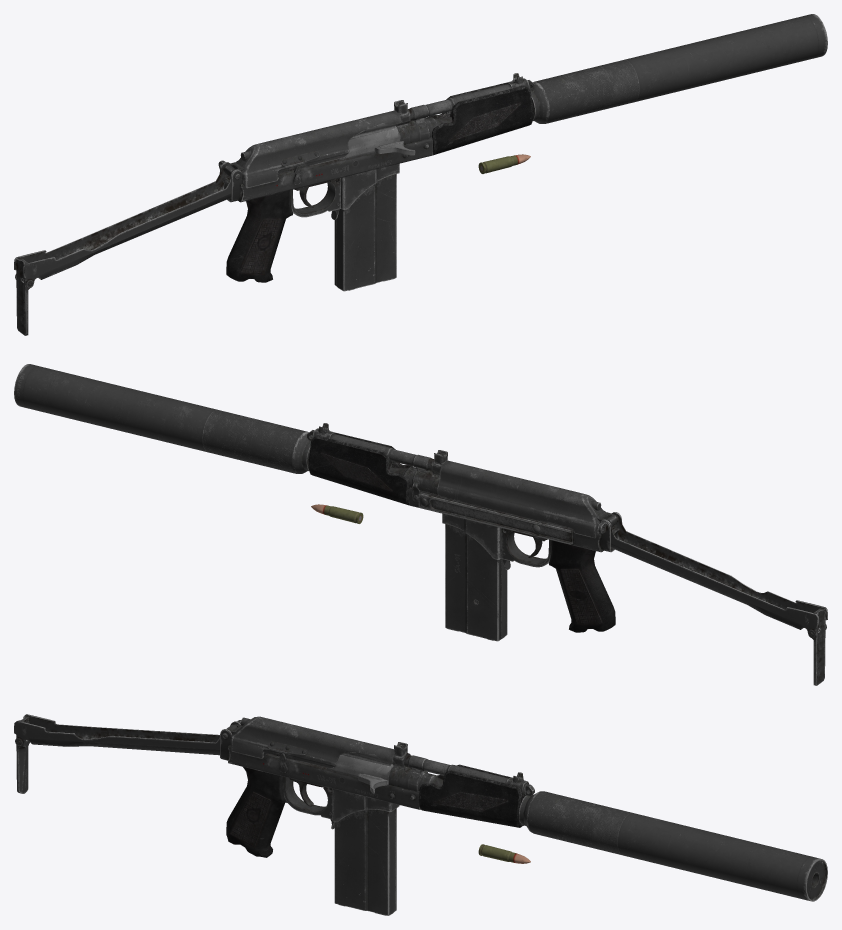
The picture shows the model from 3 angles, top to bottom: view 1: azimuth 30°, elevation 25°; view 2: azimuth 150°, elevation 25°; view 3: azimuth 330°, elevation 25°; orthographic projection.
Parts seen in each view (by area): view 1: silencer, mag_2, stock_3, base_44, base_2, base_45, base_49, base_50, base_3, base_11, base_18, base_29 (+3 smaller); view 2: silencer, base_44, mag_2, stock_3, base_2, base_49, base_43, base_50, base_3, base_11, base_29, butt (+3 smaller); view 3: silencer, mag_2, stock_3, base_44, base_2, base_45, base_49, base_50, base_3, base_11, base_18, base_29 (+4 smaller).
Part boxes in pixels (x1=…): silencer: x1=529, y1=14, x2=827, y2=123; mag_2: x1=334, y1=174, x2=396, y2=291; stock_3: x1=14, y1=162, x2=240, y2=288; base_44: x1=223, y1=110, x2=401, y2=188; base_2: x1=426, y1=82, x2=533, y2=155; base_45: x1=238, y1=137, x2=432, y2=202; base_49: x1=226, y1=190, x2=293, y2=282; base_50: x1=240, y1=219, x2=281, y2=273; base_3: x1=335, y1=163, x2=399, y2=209; base_11: x1=408, y1=84, x2=529, y2=122; base_18: x1=337, y1=126, x2=400, y2=160; base_29: x1=290, y1=178, x2=340, y2=217; silencer: x1=14, y1=364, x2=312, y2=473; base_44: x1=437, y1=460, x2=618, y2=538; mag_2: x1=445, y1=524, x2=507, y2=641; stock_3: x1=601, y1=512, x2=827, y2=638; base_2: x1=308, y1=432, x2=415, y2=505; base_49: x1=548, y1=540, x2=615, y2=632; base_43: x1=418, y1=492, x2=572, y2=544; base_50: x1=560, y1=569, x2=601, y2=623; base_3: x1=442, y1=513, x2=506, y2=559; base_11: x1=312, y1=434, x2=433, y2=472; base_29: x1=500, y1=528, x2=551, y2=567; butt: x1=812, y1=608, x2=825, y2=685; silencer: x1=519, y1=791, x2=827, y2=901; mag_2: x1=334, y1=808, x2=396, y2=915; stock_3: x1=14, y1=714, x2=240, y2=755; base_44: x1=228, y1=716, x2=394, y2=768; base_2: x1=418, y1=764, x2=530, y2=827; base_45: x1=228, y1=745, x2=420, y2=809; base_49: x1=226, y1=767, x2=287, y2=857; base_50: x1=229, y1=792, x2=270, y2=846; base_3: x1=332, y1=789, x2=399, y2=822; base_11: x1=404, y1=754, x2=529, y2=795; base_18: x1=326, y1=755, x2=393, y2=784; base_29: x1=283, y1=776, x2=332, y2=819.
Bounding box in the file's own units: 0.9623 × 0.1967 × 0.0664.
Materials: 5 (5 with a texture image).
